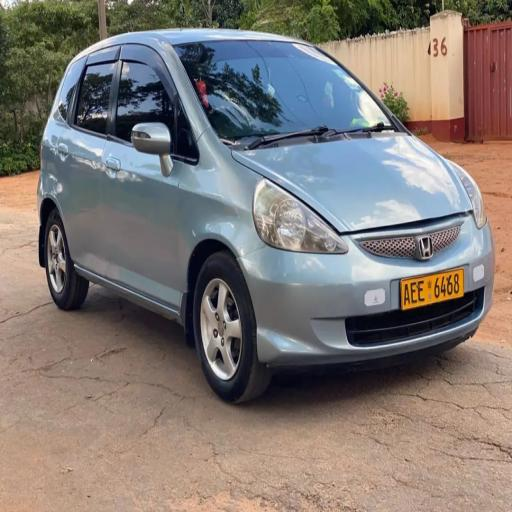number-plates: (399, 272, 468, 306)
